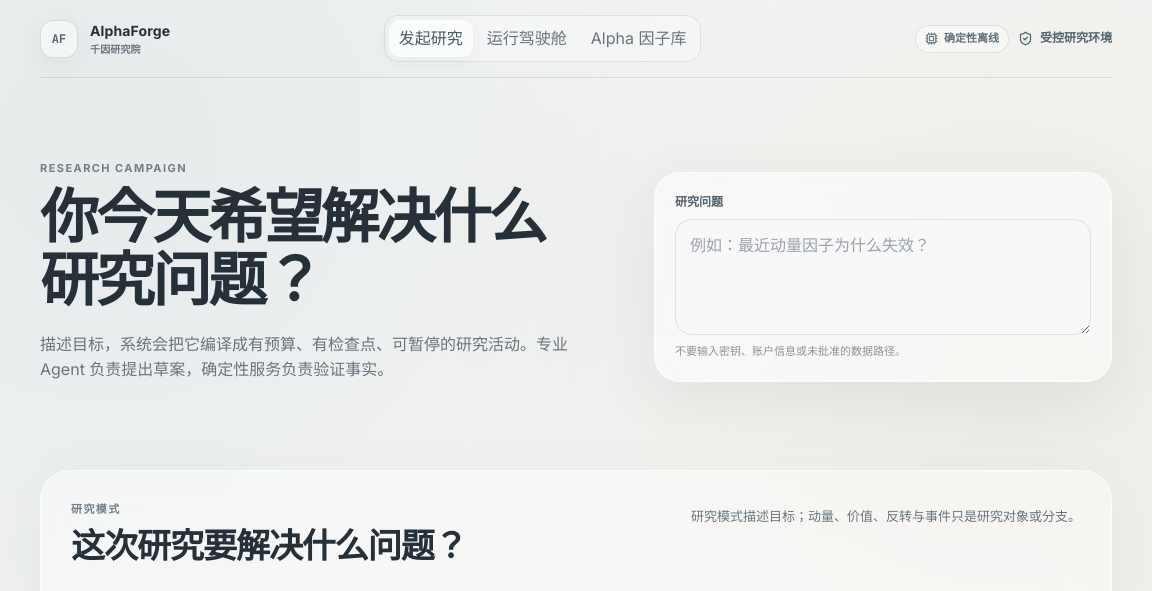
it: AlphaForge 中文 Campaign 产品体验 › 驾驶舱没有真实运行时不展示演示 Desk
Click the button "运行驾驶舱": (527,38) [477,20,577,57]
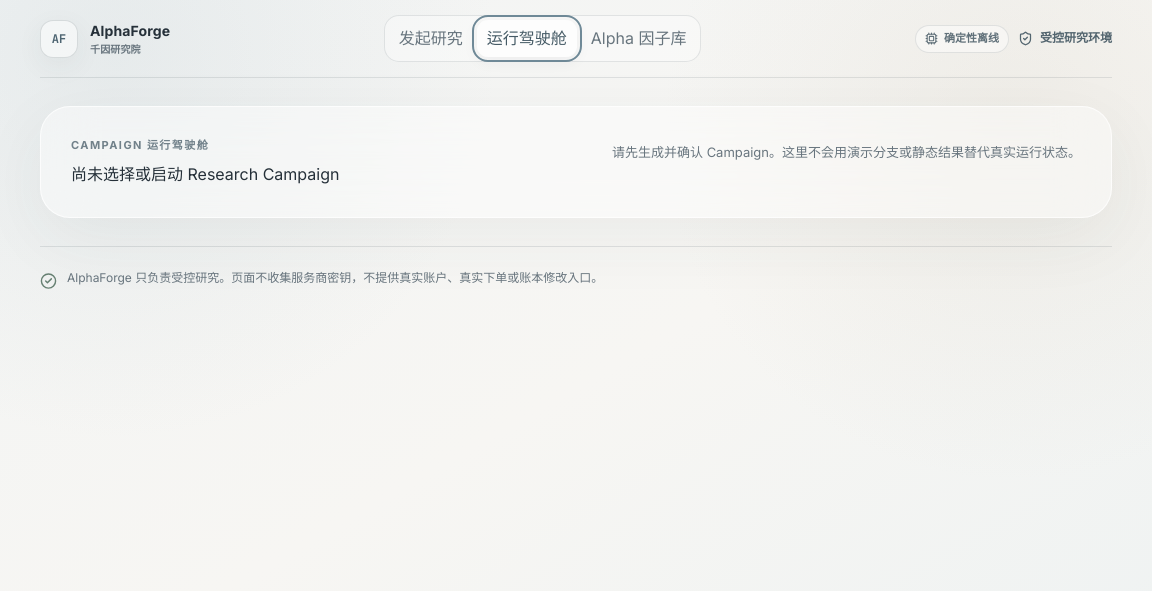
Expected: the heading "尚未选择或启动 Research Campaign" is shown, [71,162,339,187]
